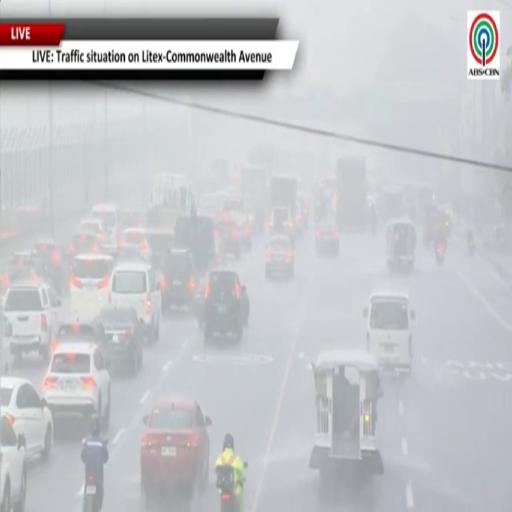car: (140, 399, 211, 505), (42, 343, 110, 428), (4, 283, 62, 359), (0, 377, 53, 458), (363, 291, 415, 371), (110, 262, 161, 343), (203, 269, 249, 343), (99, 306, 143, 374), (69, 254, 113, 321), (0, 416, 26, 511), (161, 250, 197, 311), (53, 317, 106, 354), (33, 239, 65, 293), (2, 252, 43, 291), (91, 204, 121, 253), (265, 235, 294, 278), (91, 204, 121, 242), (119, 228, 151, 263), (217, 214, 241, 259), (146, 228, 173, 268), (269, 206, 295, 244), (67, 232, 100, 261), (315, 220, 339, 255), (78, 218, 106, 245), (233, 212, 251, 249), (122, 208, 147, 228), (298, 194, 309, 230)
motorcycle: (216, 466, 239, 511), (83, 474, 101, 511), (83, 475, 100, 511), (436, 243, 446, 265), (467, 231, 475, 255), (468, 240, 475, 255)
truck: (336, 156, 368, 230), (241, 166, 267, 232), (270, 176, 297, 219)
